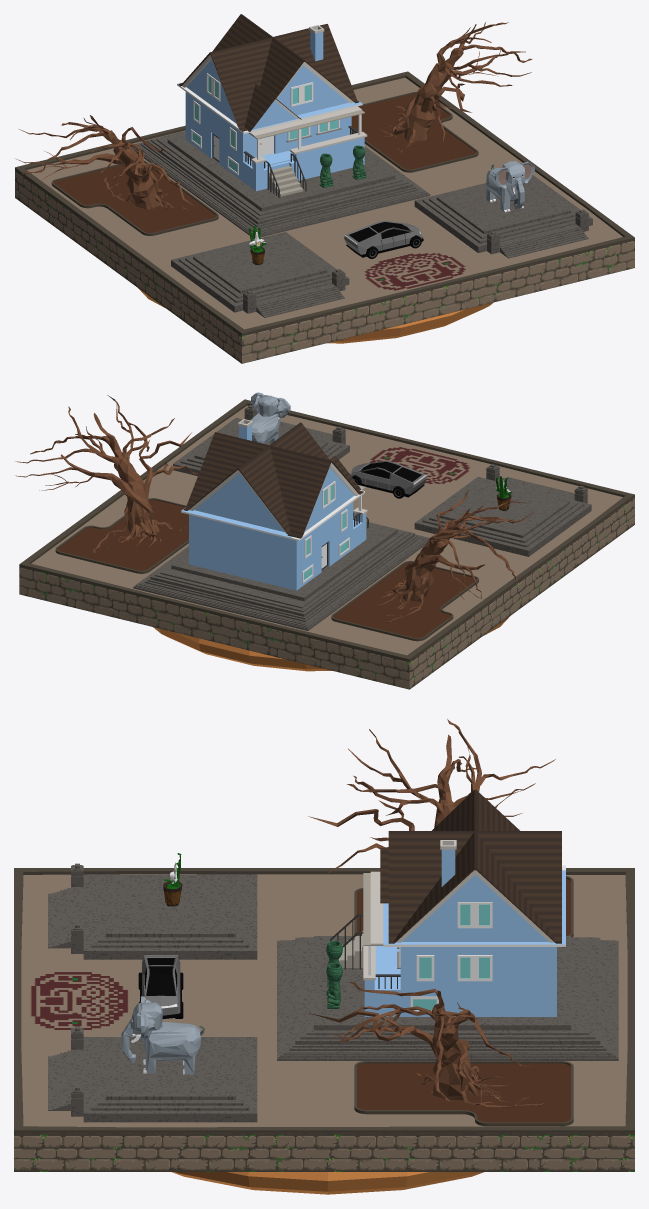
3 views of the same model, one above another, from view 1: azimuth 30°, elevation 25°; view 2: azimuth 150°, elevation 25°; view 3: azimuth 270°, elevation 25° (orthographic). The views are drawn at different scales.
Visible parts, largest first — view 1: Cube.011, Cube.1594, VEHICLES_CYBERTRUCK, ANIMAL_ELEFANTE, UNDERGROUND_PIZZA; view 2: Cube.011, Cube.1594, UNDERGROUND_PIZZA, VEHICLES_CYBERTRUCK, ANIMAL_ELEFANTE; view 3: Cube.011, Cube.1594, UNDERGROUND_PIZZA, ANIMAL_ELEFANTE, VEHICLES_CYBERTRUCK.
Boxes of the visible parts, x1,y1,x2,y2 form: Cube.011: (15,22,634,363); Cube.1594: (177,14,367,197); VEHICLES_CYBERTRUCK: (344,220,423,258); ANIMAL_ELEFANTE: (486,161,534,212); UNDERGROUND_PIZZA: (138,288,493,343); Cube.011: (15,395,634,689); Cube.1594: (181,419,368,590); UNDERGROUND_PIZZA: (153,616,509,671); VEHICLES_CYBERTRUCK: (350,460,426,498); ANIMAL_ELEFANTE: (250,392,290,443); Cube.011: (14,719,634,1171); Cube.1594: (330,789,565,1016); UNDERGROUND_PIZZA: (171,1172,483,1194); ANIMAL_ELEFANTE: (121,996,204,1074); VEHICLES_CYBERTRUCK: (138,955,183,1018).
Bounding box in the file's own units: 5099 × 1872 × 4000.
39 materials, 5 textured.
